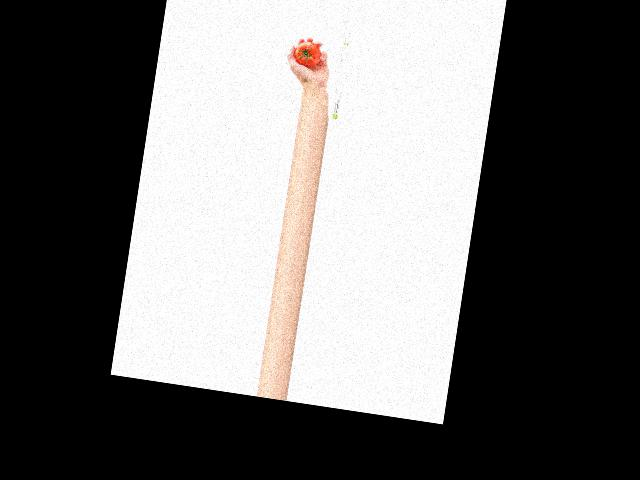tomato: (293, 39, 323, 68)
